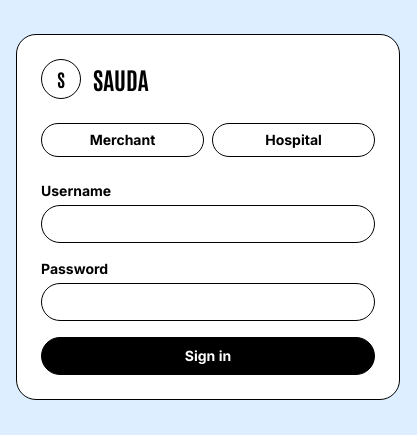
LoginPage › shows an error on wrong admin credentials
The width and height of the screenshot is (417, 435).
Type "admin" into the field with test id "login-username".
click(208, 224); type("admin")  # box x1=41 y1=205 x2=375 y2=243
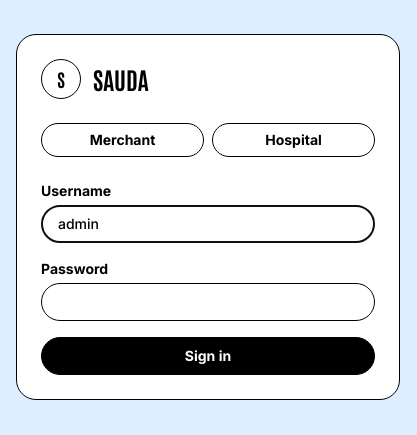
Type "nope" into the password field with test id "login-password".
click(208, 302); type("nope")  # box x1=41 y1=283 x2=375 y2=321
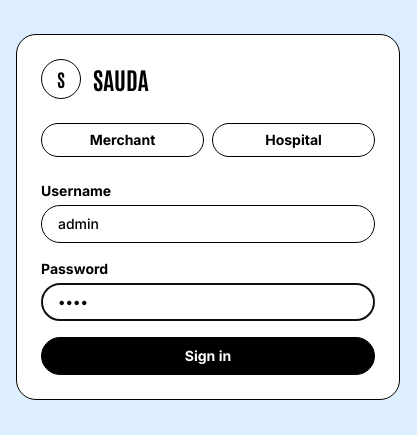
Click the button with test id "login-submit".
click(208, 356)  # box x1=41 y1=337 x2=375 y2=375
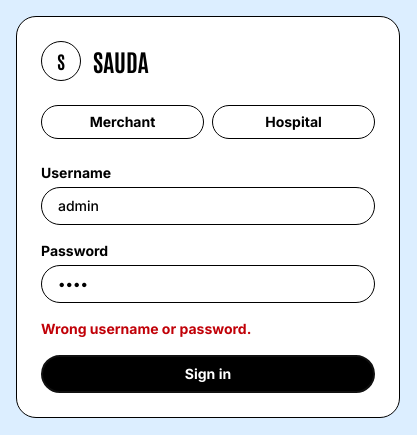
Result: the text "Wrong username or password." is shown at x1=41 y1=320 x2=251 y2=337
